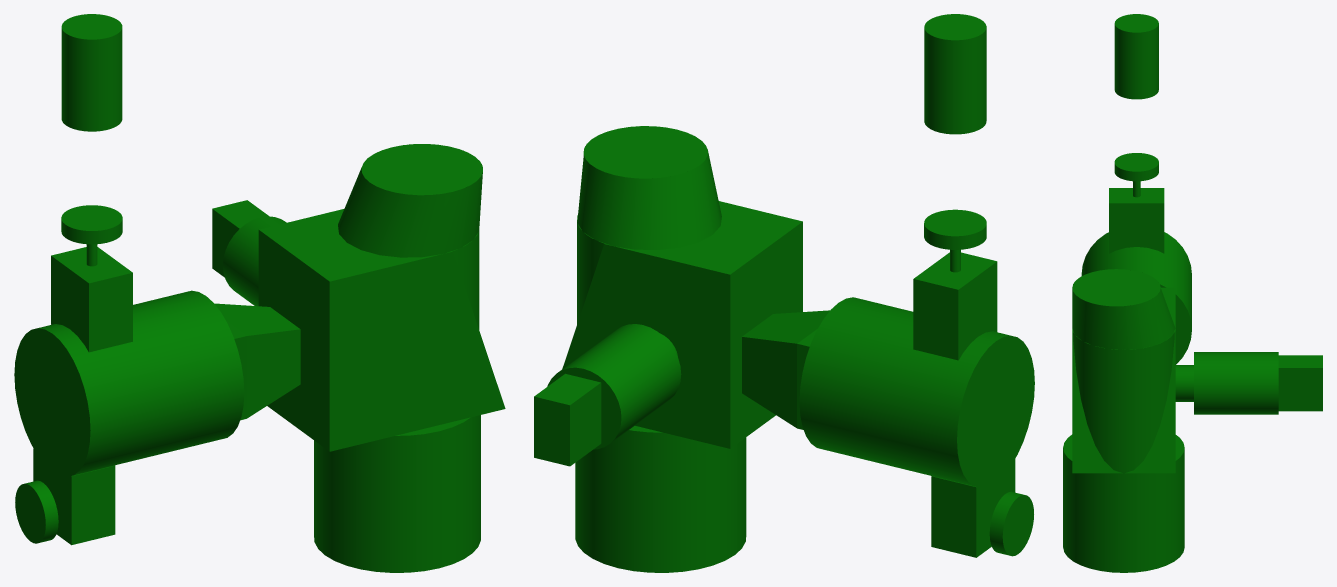
File: Image-1711348128302-2280884474320_42-PF52B.fbx
3 renders of one model, left to right at view 1: azimuth 30°, elevation 25°; view 2: azimuth 150°, elevation 25°; view 3: azimuth 270°, elevation 25°, orthographic. The views are drawn at different scales.
Visible parts, largest first — view 1: BOX 1 of SUBEQUIPMENT /42-PF52B/PRIM, CYLINDER 5 of SUBEQUIPMENT /42-PF52B/PRIM, CYLINDER 2 of SUBEQUIPMENT /42-PF52B/PRIM, SNOUT 1 of SUBEQUIPMENT /42-PF52B/PRIM, CYLINDER 1 of SUBEQUIPMENT /42-CX52B, BOX 4 of SUBEQUIPMENT /42-PF52B/PRIM, PYRAMID 2 of SUBEQUIPMENT /42-PF52B/PRIM, BOX 5 of SUBEQUIPMENT /42-PF52B/PRIM, PYRAMID 1 of SUBEQUIPMENT /42-PF52B/PRIM, CYLINDER 4 of SUBEQUIPMENT /42-PF52B/PRIM, /42-PF52B/N2, /42-PF52B/N1 (+3 smaller); view 2: CYLINDER 5 of SUBEQUIPMENT /42-PF52B/PRIM, BOX 1 of SUBEQUIPMENT /42-PF52B/PRIM, CYLINDER 2 of SUBEQUIPMENT /42-PF52B/PRIM, SNOUT 1 of SUBEQUIPMENT /42-PF52B/PRIM, CYLINDER 4 of SUBEQUIPMENT /42-PF52B/PRIM, BOX 4 of SUBEQUIPMENT /42-PF52B/PRIM, CYLINDER 1 of SUBEQUIPMENT /42-CX52B, PYRAMID 2 of SUBEQUIPMENT /42-PF52B/PRIM, BOX 2 of SUBEQUIPMENT /42-PF52B/PRIM, BOX 5 of SUBEQUIPMENT /42-PF52B/PRIM, /42-PF52B/N2, /42-PF52B/N1 (+3 smaller); view 3: CYLINDER 2 of SUBEQUIPMENT /42-PF52B/PRIM, CYLINDER 1 of SUBEQUIPMENT /42-PF52B/PRIM, SNOUT 1 of SUBEQUIPMENT /42-PF52B/PRIM, CYLINDER 4 of SUBEQUIPMENT /42-PF52B/PRIM, CYLINDER 5 of SUBEQUIPMENT /42-PF52B/PRIM, PYRAMID 1 of SUBEQUIPMENT /42-PF52B/PRIM, CYLINDER 1 of SUBEQUIPMENT /42-CX52B, BOX 4 of SUBEQUIPMENT /42-PF52B/PRIM, BOX 2 of SUBEQUIPMENT /42-PF52B/PRIM, /42-PF52B/N2, CYLINDER 3 of SUBEQUIPMENT /42-PF52B/PRIM, BOX 1 of SUBEQUIPMENT /42-PF52B/PRIM.
Boxes of the visible parts, box(x1,y1,x2,y2) form: BOX 1 of SUBEQUIPMENT /42-PF52B/PRIM: box(258, 209, 452, 451); CYLINDER 5 of SUBEQUIPMENT /42-PF52B/PRIM: box(14, 290, 244, 476); CYLINDER 2 of SUBEQUIPMENT /42-PF52B/PRIM: box(314, 415, 480, 572); SNOUT 1 of SUBEQUIPMENT /42-PF52B/PRIM: box(338, 144, 482, 257); CYLINDER 1 of SUBEQUIPMENT /42-CX52B: box(61, 14, 122, 131); BOX 4 of SUBEQUIPMENT /42-PF52B/PRIM: box(51, 247, 132, 352); PYRAMID 2 of SUBEQUIPMENT /42-PF52B/PRIM: box(215, 303, 300, 418); BOX 5 of SUBEQUIPMENT /42-PF52B/PRIM: box(33, 448, 115, 545); PYRAMID 1 of SUBEQUIPMENT /42-PF52B/PRIM: box(453, 253, 505, 421); CYLINDER 4 of SUBEQUIPMENT /42-PF52B/PRIM: box(223, 216, 286, 306); /42-PF52B/N2: box(61, 205, 122, 266); /42-PF52B/N1: box(15, 480, 58, 543); CYLINDER 5 of SUBEQUIPMENT /42-PF52B/PRIM: box(799, 297, 1034, 487); BOX 1 of SUBEQUIPMENT /42-PF52B/PRIM: box(604, 201, 802, 448); CYLINDER 2 of SUBEQUIPMENT /42-PF52B/PRIM: box(575, 426, 746, 572); SNOUT 1 of SUBEQUIPMENT /42-PF52B/PRIM: box(577, 126, 721, 249); CYLINDER 4 of SUBEQUIPMENT /42-PF52B/PRIM: box(547, 324, 681, 449); BOX 4 of SUBEQUIPMENT /42-PF52B/PRIM: box(913, 252, 997, 360); CYLINDER 1 of SUBEQUIPMENT /42-CX52B: box(924, 14, 986, 134); PYRAMID 2 of SUBEQUIPMENT /42-PF52B/PRIM: box(742, 310, 829, 427); BOX 2 of SUBEQUIPMENT /42-PF52B/PRIM: box(534, 373, 601, 466); BOX 5 of SUBEQUIPMENT /42-PF52B/PRIM: box(931, 459, 1015, 557); /42-PF52B/N2: box(924, 209, 986, 272); /42-PF52B/N1: box(989, 491, 1033, 556); CYLINDER 2 of SUBEQUIPMENT /42-PF52B/PRIM: box(1063, 434, 1184, 572); CYLINDER 1 of SUBEQUIPMENT /42-PF52B/PRIM: box(1073, 332, 1174, 473); SNOUT 1 of SUBEQUIPMENT /42-PF52B/PRIM: box(1072, 269, 1175, 349); CYLINDER 4 of SUBEQUIPMENT /42-PF52B/PRIM: box(1194, 352, 1278, 414); CYLINDER 5 of SUBEQUIPMENT /42-PF52B/PRIM: box(1081, 232, 1191, 364); PYRAMID 1 of SUBEQUIPMENT /42-PF52B/PRIM: box(1072, 331, 1175, 473); CYLINDER 1 of SUBEQUIPMENT /42-CX52B: box(1114, 14, 1158, 99); BOX 4 of SUBEQUIPMENT /42-PF52B/PRIM: box(1109, 188, 1164, 253); BOX 2 of SUBEQUIPMENT /42-PF52B/PRIM: box(1278, 355, 1322, 411); /42-PF52B/N2: box(1114, 153, 1158, 197); CYLINDER 3 of SUBEQUIPMENT /42-PF52B/PRIM: box(1175, 365, 1193, 401); BOX 1 of SUBEQUIPMENT /42-PF52B/PRIM: box(1072, 287, 1175, 331).
Bounding box in the file's own units: 0.98 × 0.705 × 1.25.
